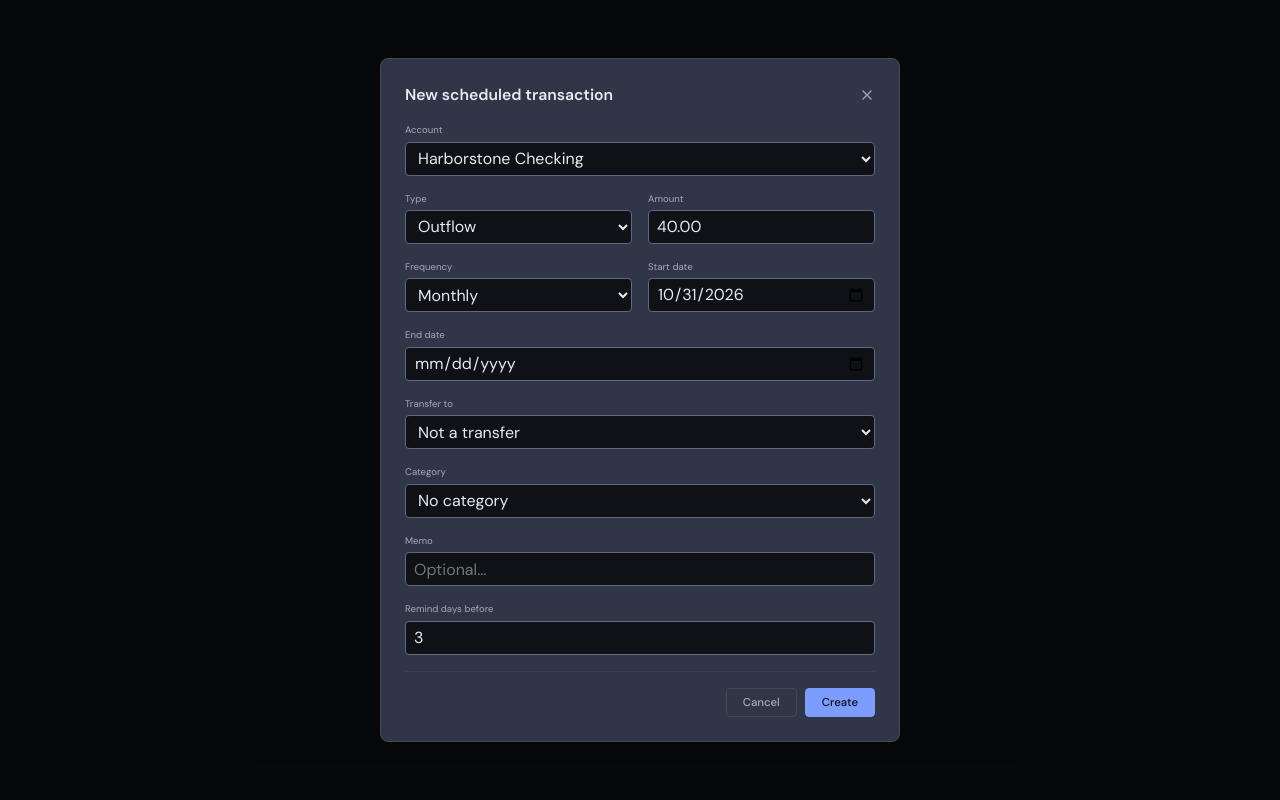
Test case: ScheduledTransactionEditor › asks for the date when it was cleared
The image size is (1280, 800).
Clear the date field labelled "Start date" at coordinates (762, 295), box 648,278 -> 875,312
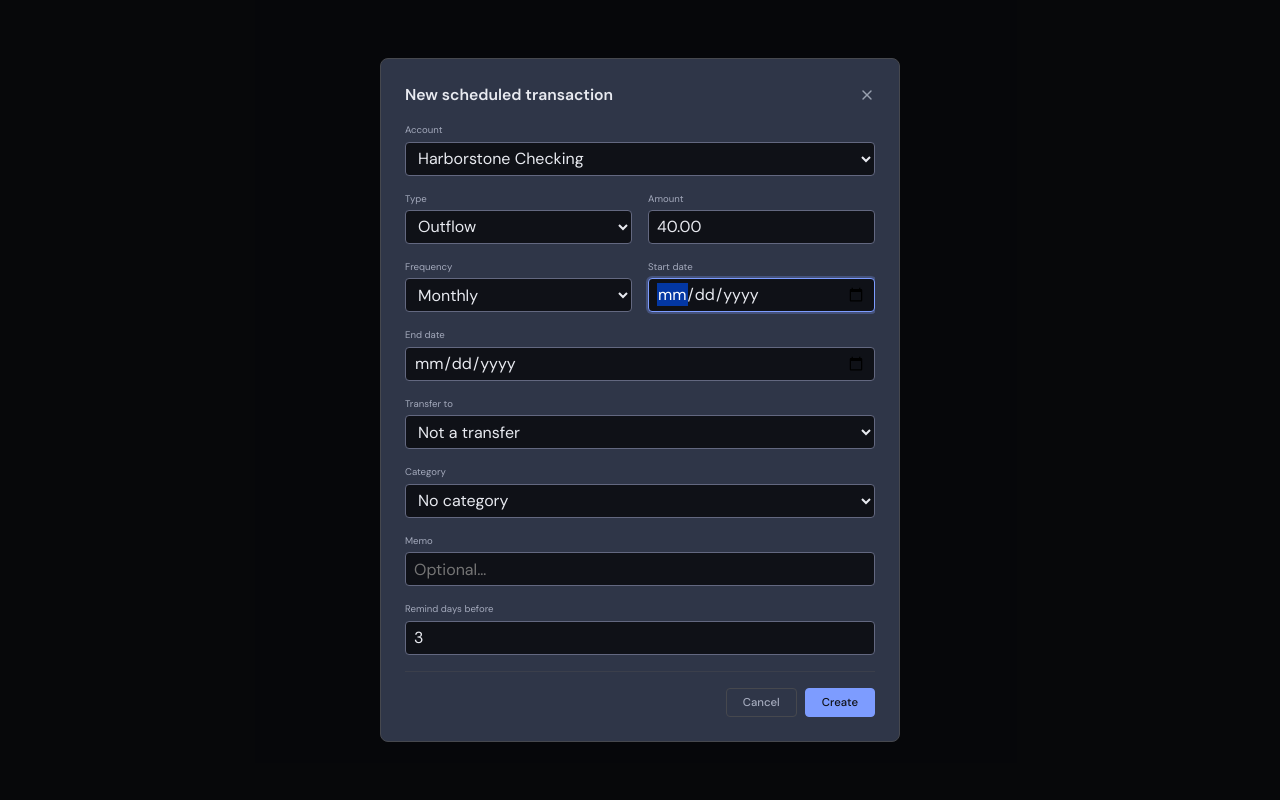
Click the button "Create" at coordinates (840, 702), box 805,688 -> 875,717
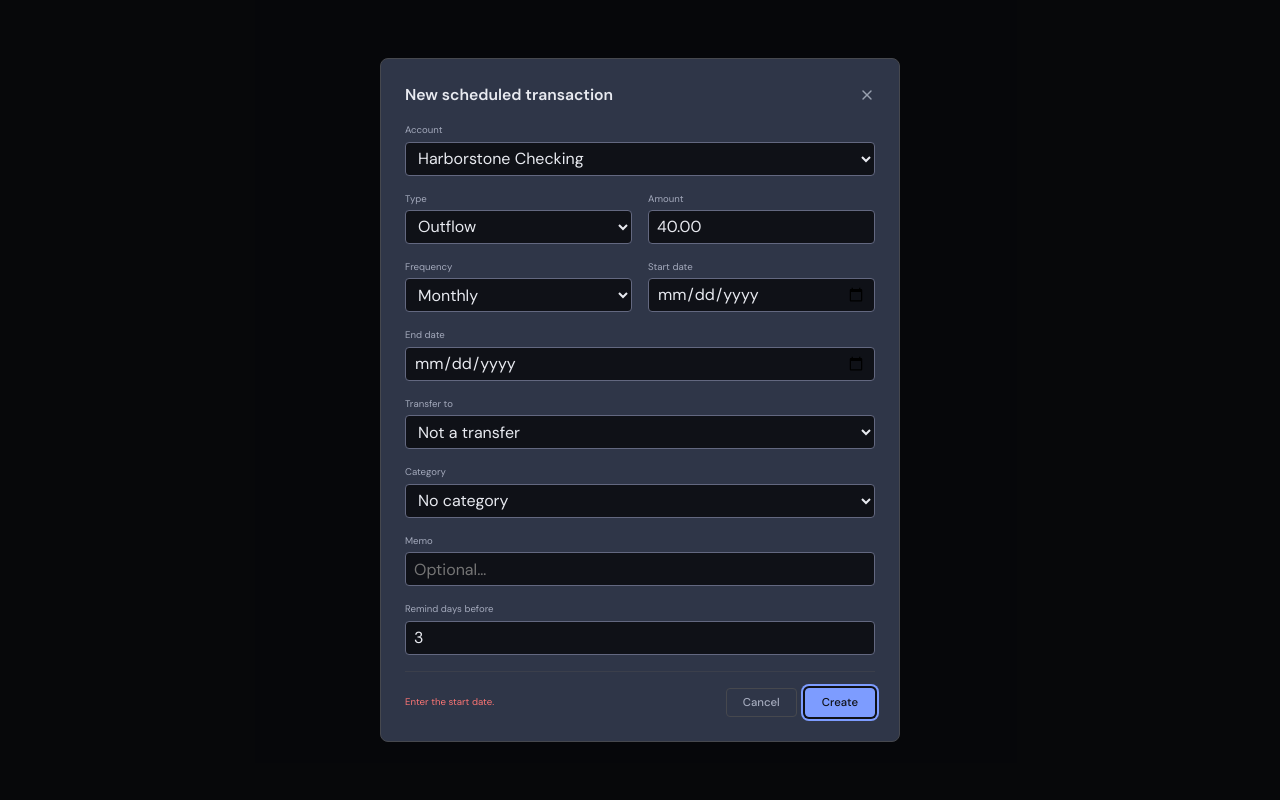
Result: the message reads "Enter the start date." at 405,695 -> 494,708
